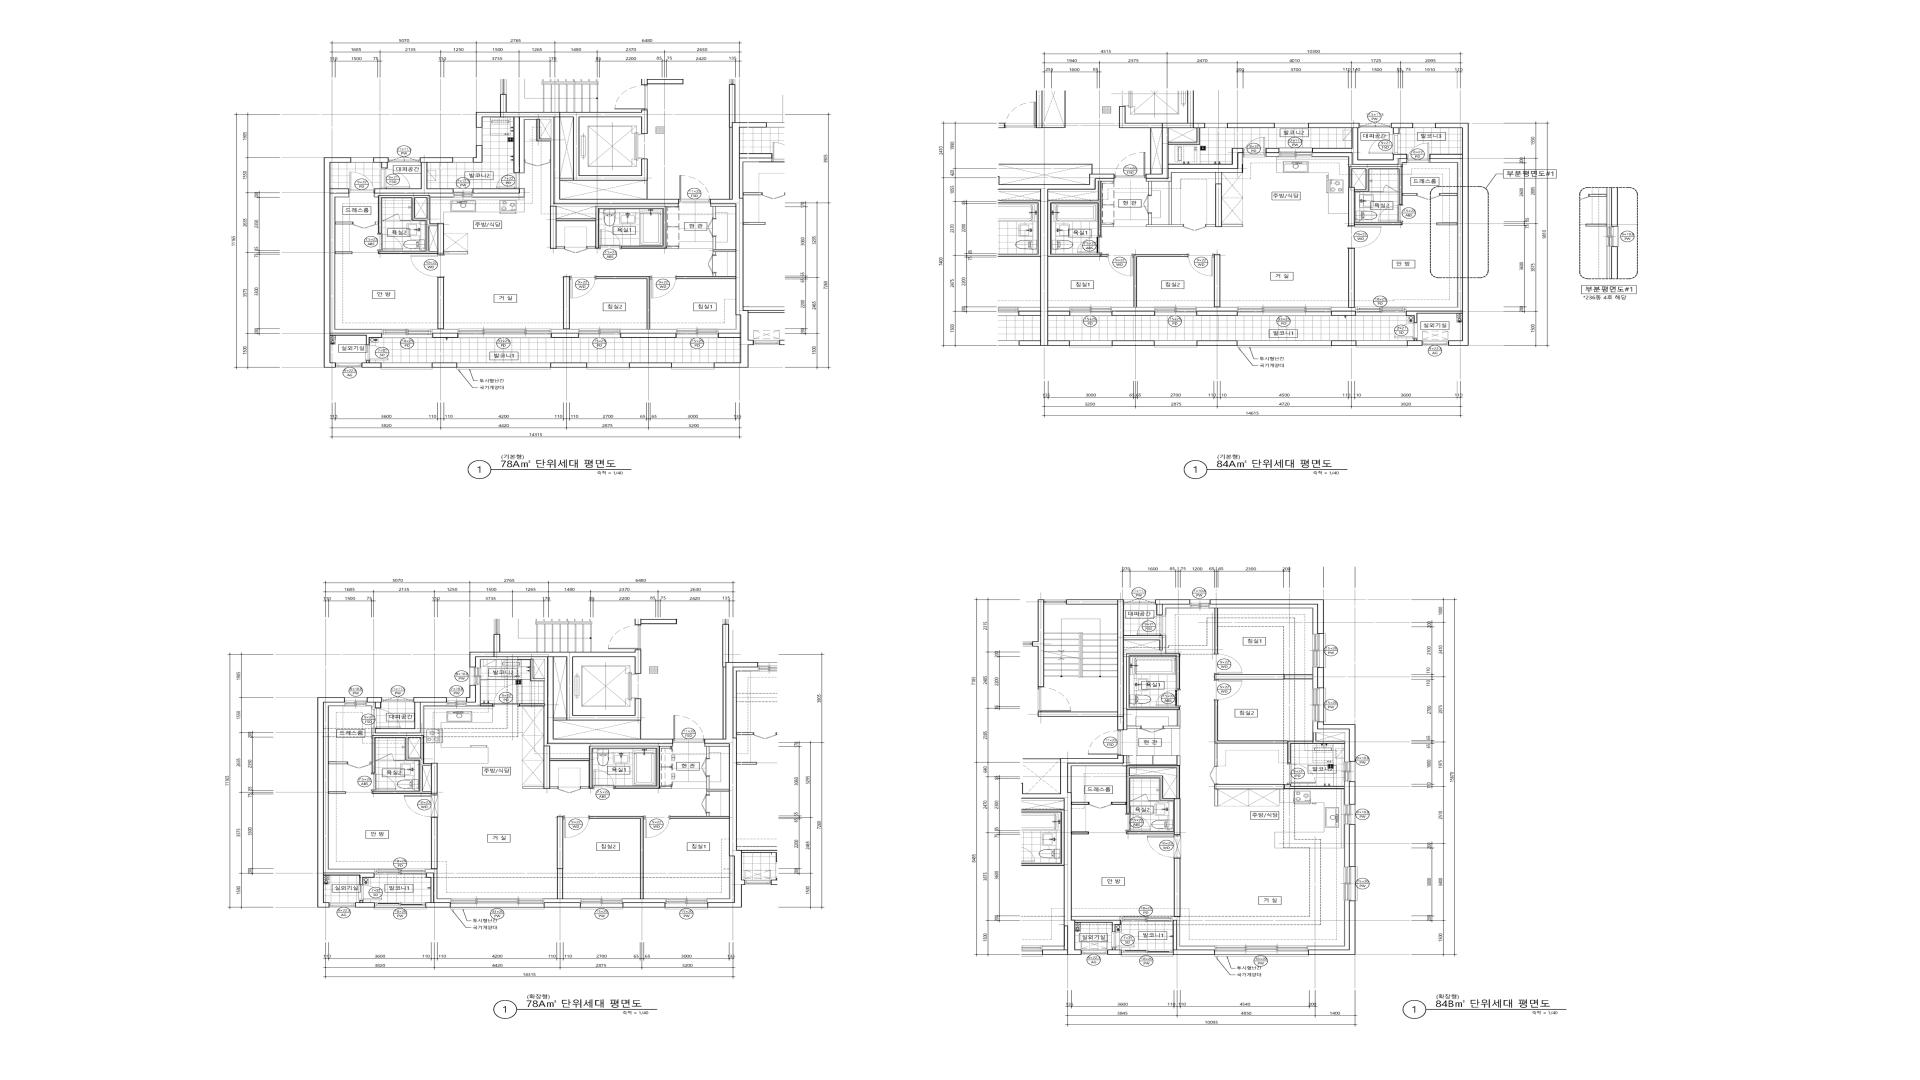door: (1114, 152, 1146, 178), (673, 715, 704, 741), (679, 175, 711, 202), (608, 625, 641, 650), (1088, 731, 1121, 756), (1038, 687, 1071, 712), (615, 84, 647, 109), (404, 794, 438, 818), (1147, 835, 1180, 858), (410, 255, 444, 277), (1349, 225, 1382, 248), (1369, 133, 1399, 154), (1137, 615, 1166, 636), (644, 816, 670, 839), (563, 816, 589, 839), (493, 684, 520, 707), (570, 276, 596, 298), (348, 171, 375, 194), (1288, 764, 1316, 785), (1215, 679, 1242, 700), (381, 169, 410, 189), (1108, 255, 1134, 276), (1188, 255, 1215, 276), (650, 277, 676, 298), (372, 708, 400, 728), (1215, 654, 1242, 674), (1378, 204, 1403, 223), (1126, 814, 1151, 832), (1244, 137, 1266, 157), (1407, 142, 1429, 162), (599, 229, 621, 249), (1077, 236, 1101, 255), (378, 233, 402, 252), (592, 770, 615, 789), (372, 774, 396, 791), (1156, 690, 1180, 707), (496, 173, 520, 189), (1395, 323, 1418, 339), (360, 885, 382, 901), (1112, 932, 1134, 948), (367, 344, 388, 360), (525, 160, 550, 166), (1416, 193, 1440, 199), (1183, 224, 1207, 231), (347, 762, 371, 769), (352, 222, 376, 228), (558, 786, 580, 793), (1141, 727, 1163, 733), (1089, 802, 1112, 808), (564, 247, 587, 253), (1143, 195, 1151, 214), (702, 758, 709, 777), (1209, 766, 1217, 785), (1130, 794, 1149, 802), (708, 255, 716, 273), (702, 795, 709, 812), (376, 753, 393, 761), (708, 219, 716, 236), (382, 214, 400, 222), (1383, 185, 1399, 193)
wall: (469, 634, 673, 744), (676, 84, 749, 368), (670, 624, 741, 907), (476, 657, 673, 758), (476, 109, 679, 204), (1038, 600, 1163, 731), (1406, 123, 1469, 345), (520, 117, 679, 206), (1040, 174, 1114, 345), (1060, 756, 1124, 955), (323, 157, 381, 368), (318, 698, 375, 907), (1120, 107, 1244, 179), (323, 703, 375, 873), (1406, 158, 1462, 311), (1215, 700, 1345, 764), (1146, 153, 1244, 227), (330, 194, 381, 334), (550, 206, 666, 249), (543, 746, 659, 789), (1112, 766, 1180, 835), (589, 816, 644, 899), (1308, 123, 1407, 165), (1124, 636, 1166, 731), (1209, 600, 1324, 634), (378, 195, 443, 255), (372, 736, 438, 794), (1349, 166, 1403, 227), (1211, 604, 1317, 634), (1126, 654, 1180, 709), (375, 157, 454, 194), (1134, 255, 1188, 307), (596, 277, 650, 330), (375, 698, 447, 733), (1308, 901, 1356, 955), (372, 703, 447, 736), (1068, 756, 1127, 793), (1308, 901, 1349, 949), (1317, 721, 1356, 762), (1312, 721, 1349, 762), (1172, 920, 1215, 955), (1172, 916, 1215, 949), (708, 856, 735, 903), (1312, 153, 1407, 166), (1033, 600, 1044, 687), (426, 873, 451, 907), (426, 869, 451, 902), (1048, 179, 1114, 191), (1215, 785, 1345, 790), (556, 816, 563, 899), (1155, 600, 1191, 615), (1215, 674, 1312, 679), (472, 189, 525, 198), (1168, 128, 1197, 142), (707, 777, 729, 795), (713, 236, 736, 255), (1174, 858, 1180, 918), (717, 315, 740, 332), (709, 204, 736, 219), (704, 744, 729, 758), (563, 276, 570, 330), (438, 277, 444, 330), (431, 818, 438, 869), (1163, 709, 1180, 729), (537, 119, 551, 141), (1349, 248, 1354, 307), (375, 194, 454, 198), (1352, 169, 1366, 190), (530, 659, 545, 680), (467, 684, 480, 707), (1163, 604, 1191, 615), (1216, 183, 1222, 227), (634, 618, 676, 625), (1215, 255, 1220, 307), (1349, 824, 1356, 866), (1228, 123, 1275, 128), (409, 737, 421, 758), (472, 189, 520, 194), (1391, 123, 1414, 133), (1112, 311, 1155, 316), (620, 330, 676, 334), (620, 334, 676, 338), (622, 902, 665, 907), (1344, 824, 1349, 866), (1112, 340, 1154, 345), (641, 79, 683, 84), (629, 363, 671, 368), (1196, 311, 1237, 316), (1197, 340, 1237, 345), (543, 902, 580, 907), (1072, 916, 1121, 920), (729, 128, 732, 199), (373, 157, 389, 169), (551, 363, 587, 368), (1215, 608, 1218, 654), (472, 145, 483, 162), (1112, 307, 1155, 311), (467, 684, 476, 703), (367, 698, 382, 708), (622, 899, 665, 903), (1196, 307, 1237, 311), (361, 360, 381, 368), (1349, 782, 1356, 804), (551, 332, 579, 338), (1317, 667, 1324, 688), (433, 332, 458, 338), (355, 901, 375, 907), (1332, 311, 1356, 316), (1332, 340, 1356, 345), (433, 363, 456, 368), (1344, 782, 1349, 804), (1312, 667, 1317, 688), (551, 330, 579, 334), (1407, 339, 1423, 345), (433, 330, 458, 334), (543, 899, 580, 902), (1332, 307, 1356, 311), (1108, 948, 1121, 955), (1048, 307, 1069, 311), (1266, 148, 1279, 153), (1215, 790, 1218, 807), (520, 704, 545, 707), (443, 252, 468, 255), (1150, 128, 1151, 174), (1215, 744, 1217, 766), (1222, 224, 1244, 227), (522, 786, 543, 789), (1266, 153, 1279, 157), (367, 703, 375, 708), (1101, 224, 1114, 227), (480, 704, 493, 707), (554, 717, 567, 720), (560, 178, 574, 181), (666, 247, 679, 249), (659, 786, 671, 789), (1178, 756, 1180, 766), (587, 247, 596, 249), (1207, 224, 1216, 227), (580, 786, 589, 789), (640, 720, 641, 738), (556, 247, 564, 249), (550, 786, 558, 789), (1403, 194, 1416, 195), (1370, 191, 1383, 193), (393, 760, 405, 761), (400, 220, 411, 222), (1149, 800, 1159, 802), (707, 812, 709, 816), (713, 273, 716, 277), (376, 222, 378, 224), (371, 762, 372, 765)
window: (450, 899, 545, 910), (1215, 945, 1308, 956), (1237, 307, 1332, 316), (458, 330, 551, 338), (1237, 340, 1332, 347), (456, 363, 551, 369), (665, 898, 708, 910), (375, 869, 426, 878), (1356, 307, 1406, 316), (1344, 866, 1357, 901), (580, 899, 622, 910), (1312, 634, 1325, 667), (1312, 688, 1325, 721), (375, 902, 426, 910), (381, 330, 433, 338), (1069, 307, 1112, 316), (1155, 307, 1196, 316), (1356, 340, 1407, 347), (381, 363, 433, 369), (676, 330, 719, 338), (579, 330, 620, 338), (1279, 148, 1312, 157), (1154, 340, 1197, 347), (671, 363, 715, 369), (1069, 340, 1112, 347), (1121, 951, 1174, 956), (587, 363, 629, 369), (1121, 916, 1172, 922), (1344, 762, 1356, 782), (1344, 804, 1356, 824), (381, 696, 413, 703), (344, 698, 367, 707), (447, 698, 467, 707), (469, 667, 480, 684), (1275, 123, 1308, 128), (454, 189, 472, 198), (1360, 123, 1391, 128), (1124, 599, 1155, 604), (388, 157, 419, 162), (1191, 600, 1211, 608), (335, 363, 361, 368), (1205, 123, 1228, 128), (351, 157, 373, 162), (476, 128, 483, 145), (1414, 123, 1435, 128), (1081, 951, 1108, 955), (452, 157, 472, 162), (1423, 342, 1448, 345), (330, 903, 355, 907), (1044, 600, 1067, 604)
